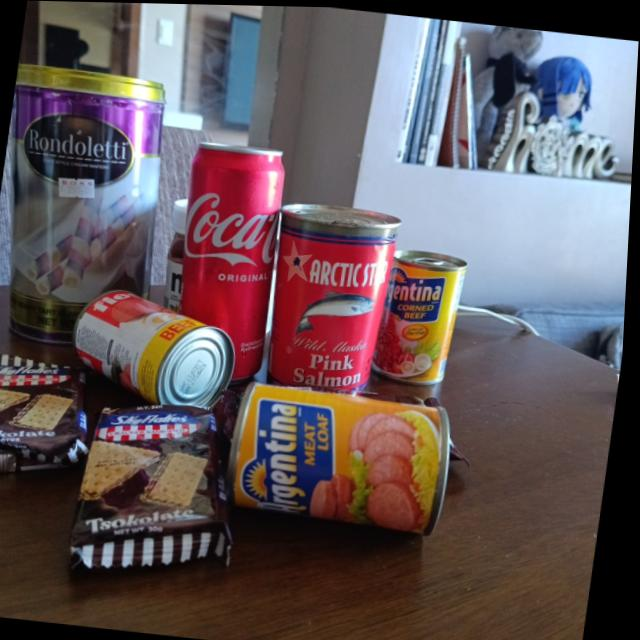coke: (170, 140, 292, 377)
